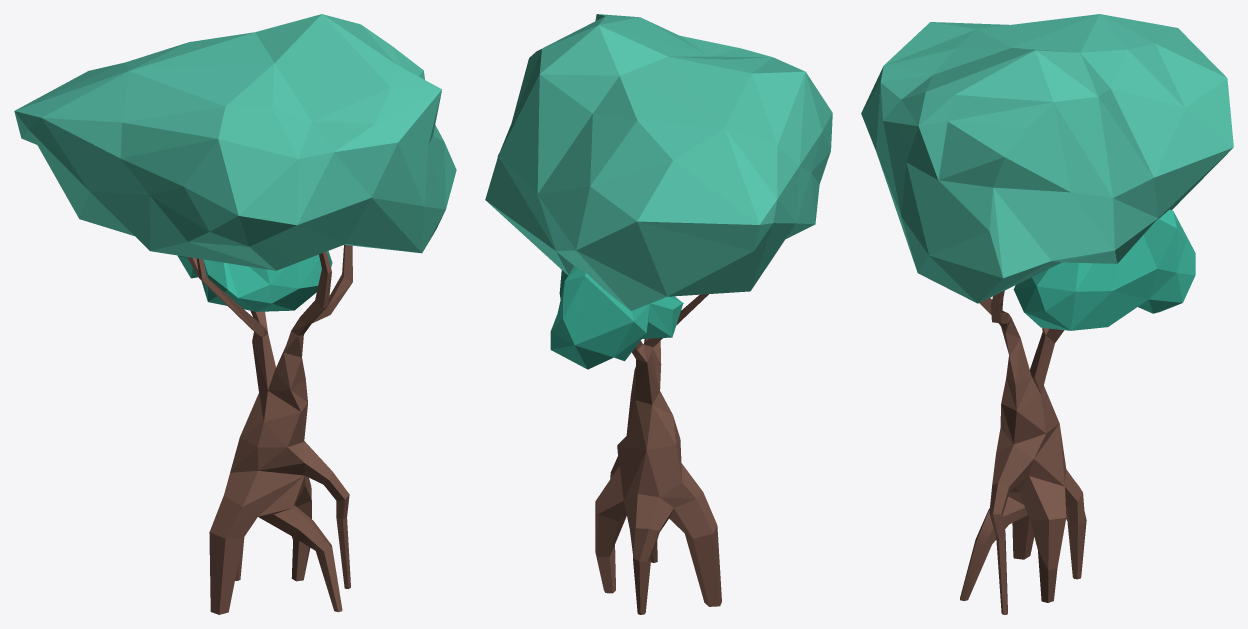
Rendered from fantasy_plant_040.fbx.
3 renders of one model, left to right at view 1: azimuth 30°, elevation 25°; view 2: azimuth 150°, elevation 25°; view 3: azimuth 270°, elevation 25°, orthographic.
Visible parts, largest first — view 1: fantasy_plant.040; view 2: fantasy_plant.040; view 3: fantasy_plant.040.
Part boxes in pixels (<box>): fantasy_plant.040: <box>14,14,456,614</box>; fantasy_plant.040: <box>485,14,832,614</box>; fantasy_plant.040: <box>861,14,1233,614</box>.
Size of the model in its own units: 1004 by 1532 by 927.
1 material, 1 textured.
